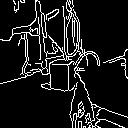cube: (44, 56, 78, 92)
